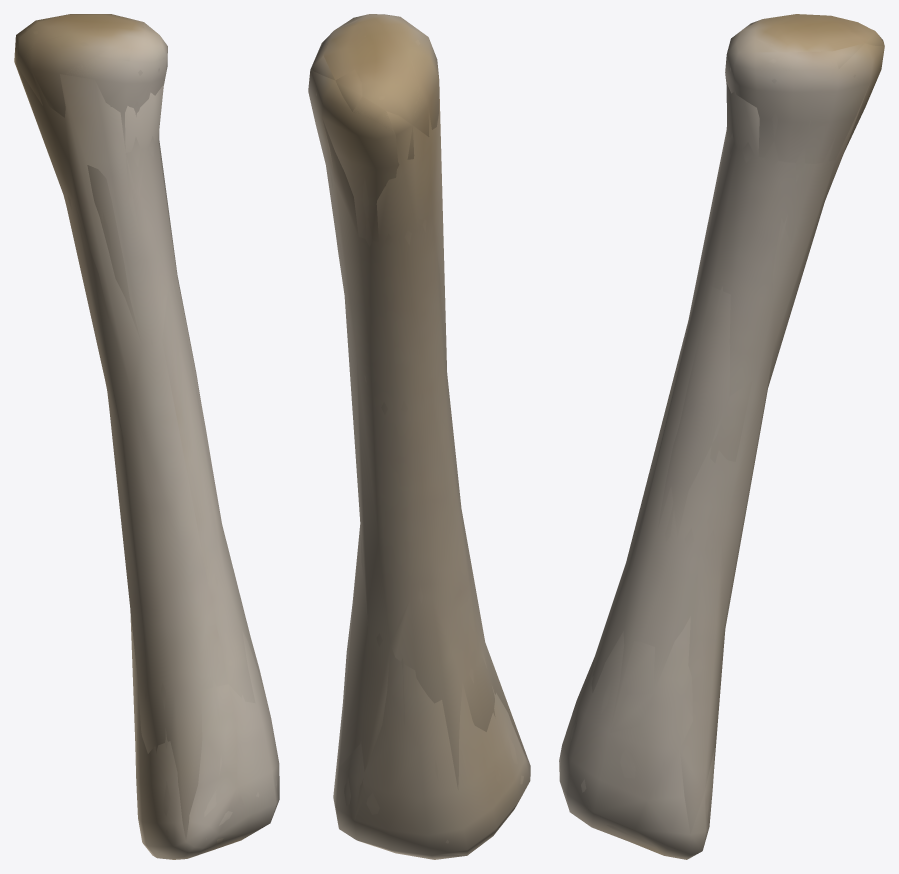
Rendered from L metatarsi quartum.fbx.
3 renders of one model, left to right at view 1: azimuth 30°, elevation 25°; view 2: azimuth 150°, elevation 25°; view 3: azimuth 270°, elevation 25°, orthographic. The views are drawn at different scales.
Visible parts, largest first — view 1: L metatarsi quartum low, L metatarsi quartum, L metatarsi quartum high; view 2: L metatarsi quartum low, L metatarsi quartum, L metatarsi quartum high; view 3: L metatarsi quartum low, L metatarsi quartum, L metatarsi quartum high.
Boxes of the visible parts, x1,y1,x2,y2 form: L metatarsi quartum low: (14, 14, 278, 854); L metatarsi quartum: (16, 14, 279, 859); L metatarsi quartum high: (26, 21, 276, 852); L metatarsi quartum low: (310, 15, 529, 859); L metatarsi quartum: (308, 14, 530, 859); L metatarsi quartum high: (316, 21, 523, 846); L metatarsi quartum low: (563, 23, 884, 855); L metatarsi quartum: (559, 14, 884, 859); L metatarsi quartum high: (560, 30, 874, 848).
Size of the model in its own units: 1.19 by 5.96 by 2.17.
